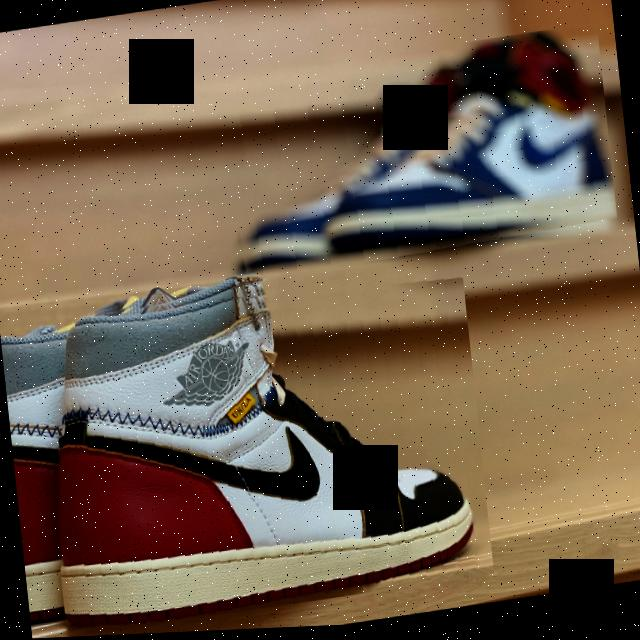shoe: (46, 256, 494, 637), (216, 27, 618, 288)
